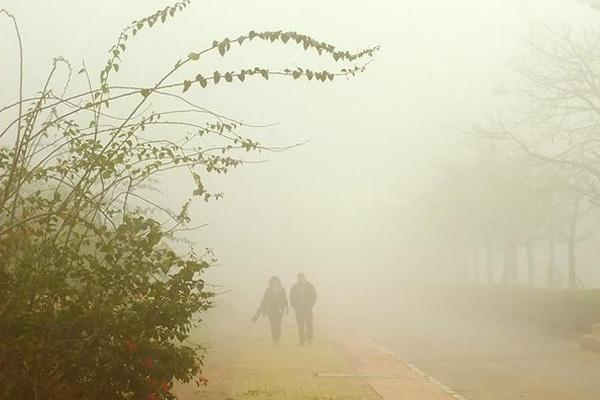person: (260, 275, 289, 348), (289, 272, 317, 347)
